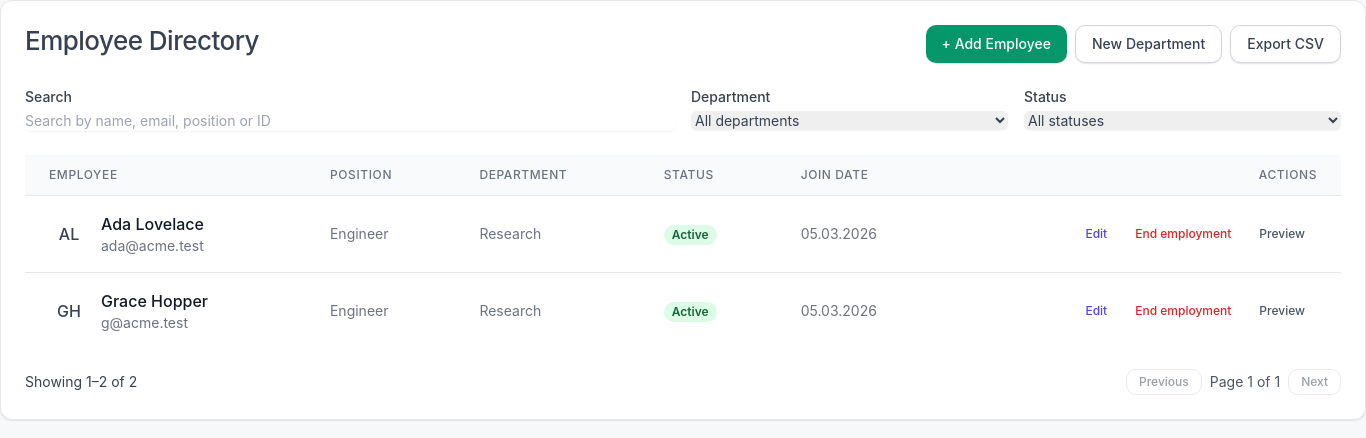
Scenario: Employees page › searches on the server after a short pause
Expected: the text "Grace Hopper" is shown, [101,289,208,313]
In the search field labelled "Search": (350, 121) [25,111,675,131], type "hopper"
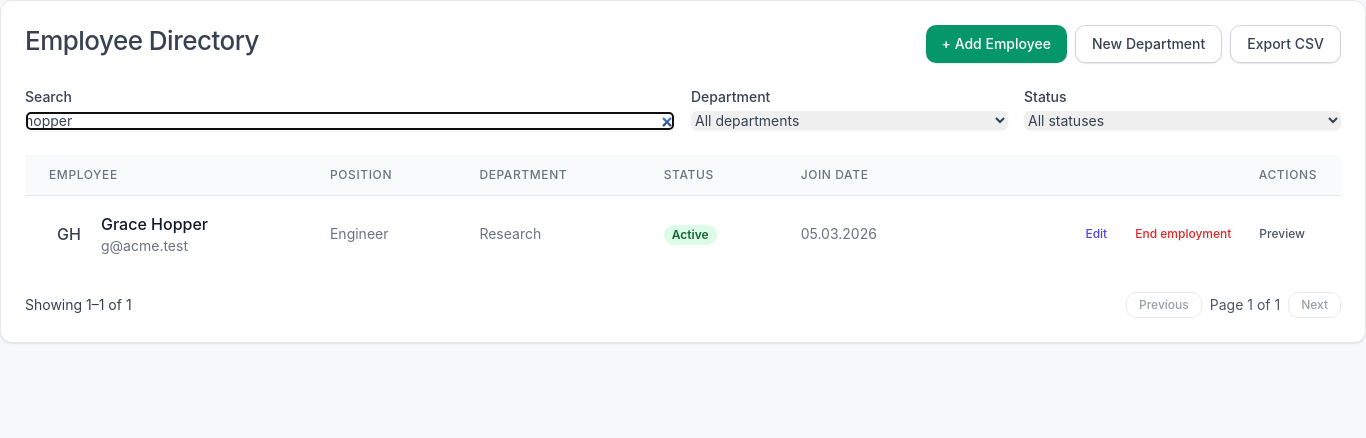
Expected: the text "Grace Hopper" is shown, [101,212,208,236]
Now the text "Ada Lovelace" is gone
